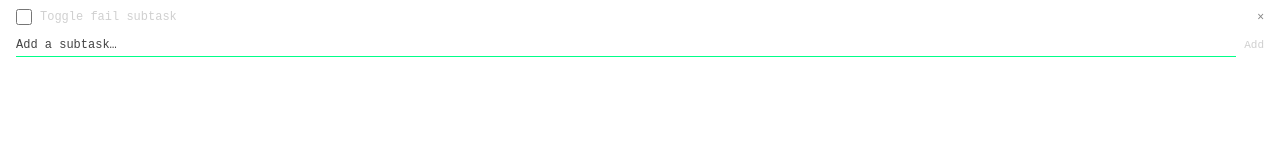
Test: SubtaskPanel › shows role="alert" error on toggle failure
Click the checkbox named "mark subtask \"toggle fail subtask\" as complete".
click(24, 17)  # box [16,9,32,25]
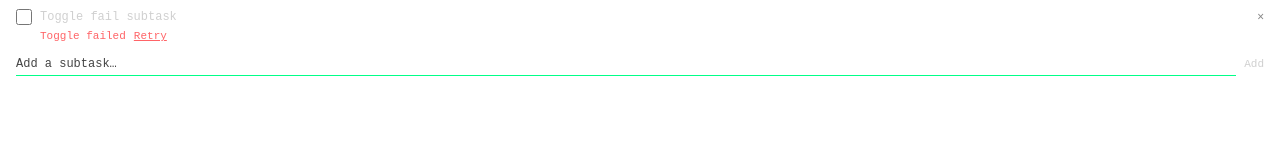
Expected: the message "Toggle failed Retry" is shown, [40,28,167,44]
Expected: the message shows "Toggle failed", [40,30,126,42]
Expected: the button with aria-label "retry toggling subtask" is shown, [134,28,167,44]
